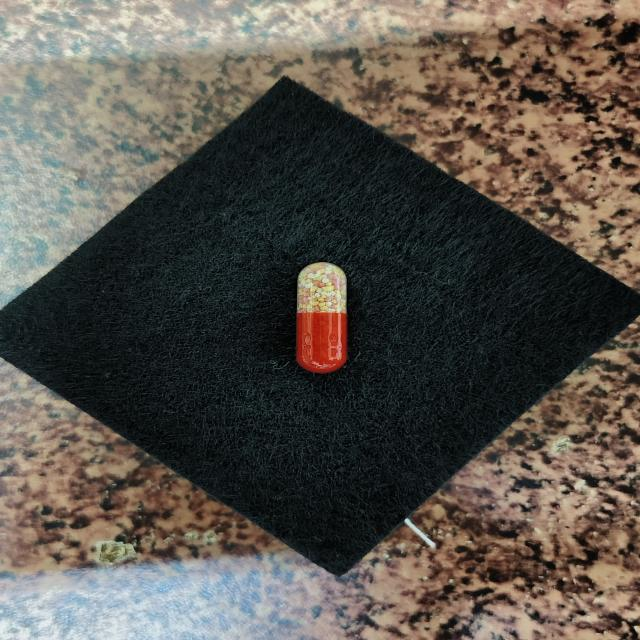Intact Capsule: (296, 262, 348, 373)
